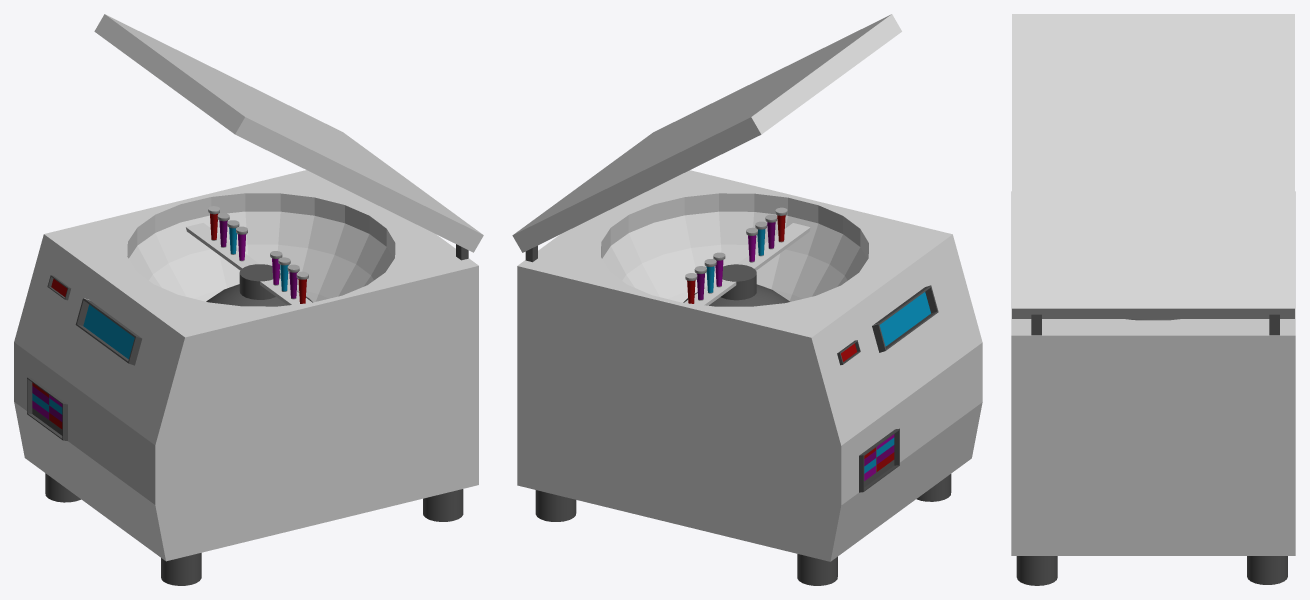
Rendered from Lab aparatuur.fbx.
The picture shows the model from 3 angles, left to right: view 1: azimuth 30°, elevation 25°; view 2: azimuth 150°, elevation 25°; view 3: azimuth 270°, elevation 25°; orthographic projection.
Visible parts, largest first — view 1: pCube1, pCube2, pCube5, pCylinder2, pCylinder1, pCylinder5, pSphere1; view 2: pCube1, pCube2, pCube5, pCylinder3, pCylinder4, pCylinder5, pSphere1; view 3: pCube2, pCube1, pCylinder1, pCylinder4.
Part boxes in pixels (box(x1,y1,x2,y2)): pCube1: box(14, 170, 478, 561); pCube2: box(94, 14, 483, 252); pCube5: box(186, 223, 311, 305); pCylinder2: box(161, 553, 201, 585); pCylinder1: box(423, 489, 463, 521); pCylinder5: box(239, 264, 280, 299); pSphere1: box(206, 284, 312, 306); pCube1: box(517, 170, 982, 561); pCube2: box(512, 14, 901, 252); pCube5: box(684, 223, 810, 305); pCylinder3: box(797, 554, 837, 585); pCylinder4: box(535, 490, 576, 521); pCylinder5: box(721, 264, 756, 300); pSphere1: box(683, 284, 789, 306); pCube2: box(1012, 14, 1294, 318); pCube1: box(1011, 191, 1295, 555); pCylinder1: box(1016, 556, 1057, 585); pCylinder4: box(1247, 556, 1287, 584).
Size of the model in its own units: 18.9 by 24.73 by 13.85.
